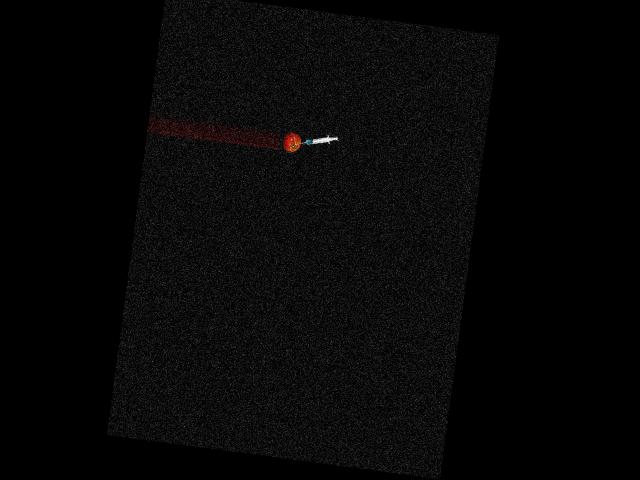tomato: (282, 131, 302, 153)
